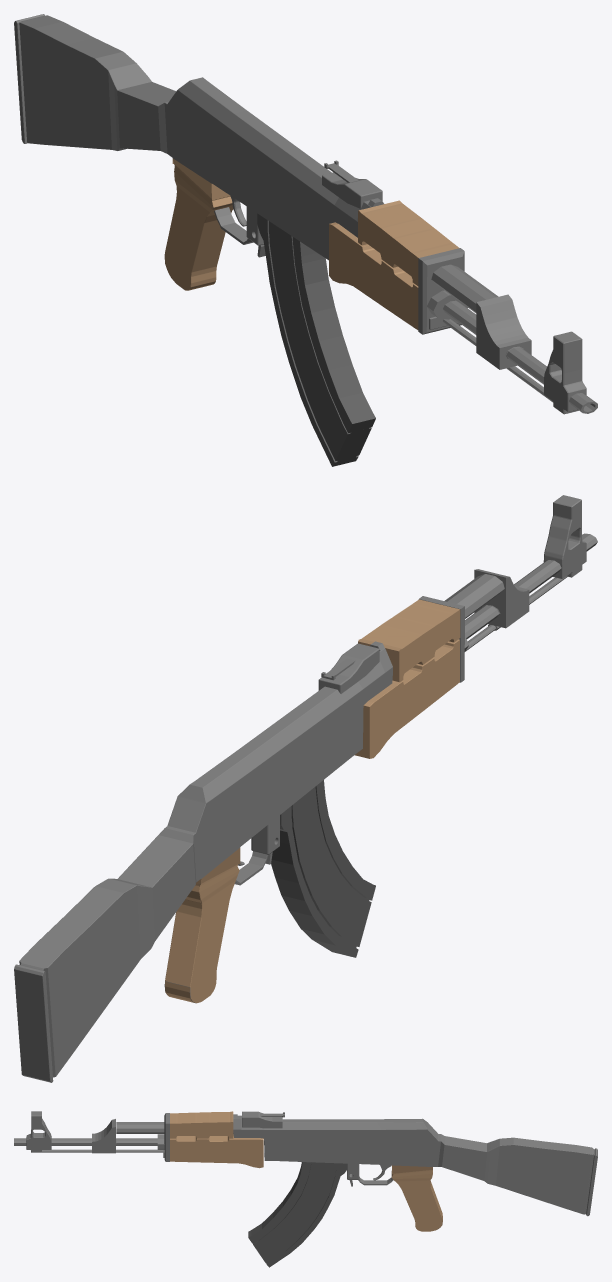
The model's file is Mark_Ak47.fbx.
The picture shows the model from 3 angles, top to bottom: view 1: azimuth 30°, elevation 25°; view 2: azimuth 150°, elevation 25°; view 3: azimuth 270°, elevation 25°; orthographic projection. The views are drawn at different scales.
Parts seen in each view (by area): view 1: Gun; view 2: Gun; view 3: Gun.
Boxes of the visible parts, bbox=[...] form: Gun: bbox=[14, 14, 597, 466]; Gun: bbox=[14, 495, 597, 1082]; Gun: bbox=[14, 1111, 597, 1267].
Size of the model in its own units: 0.0273 by 0.1802 by 0.6304.
